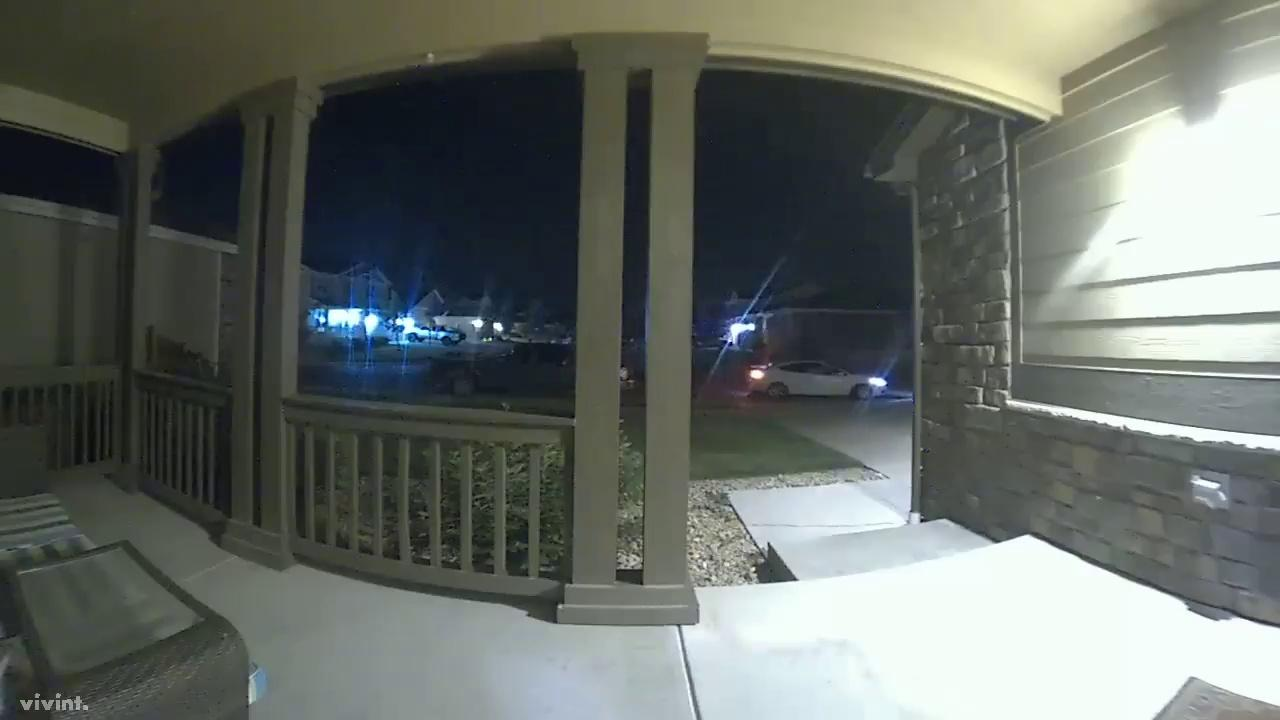suspicion: (396, 338, 644, 410), (724, 340, 902, 404), (388, 316, 470, 354)
